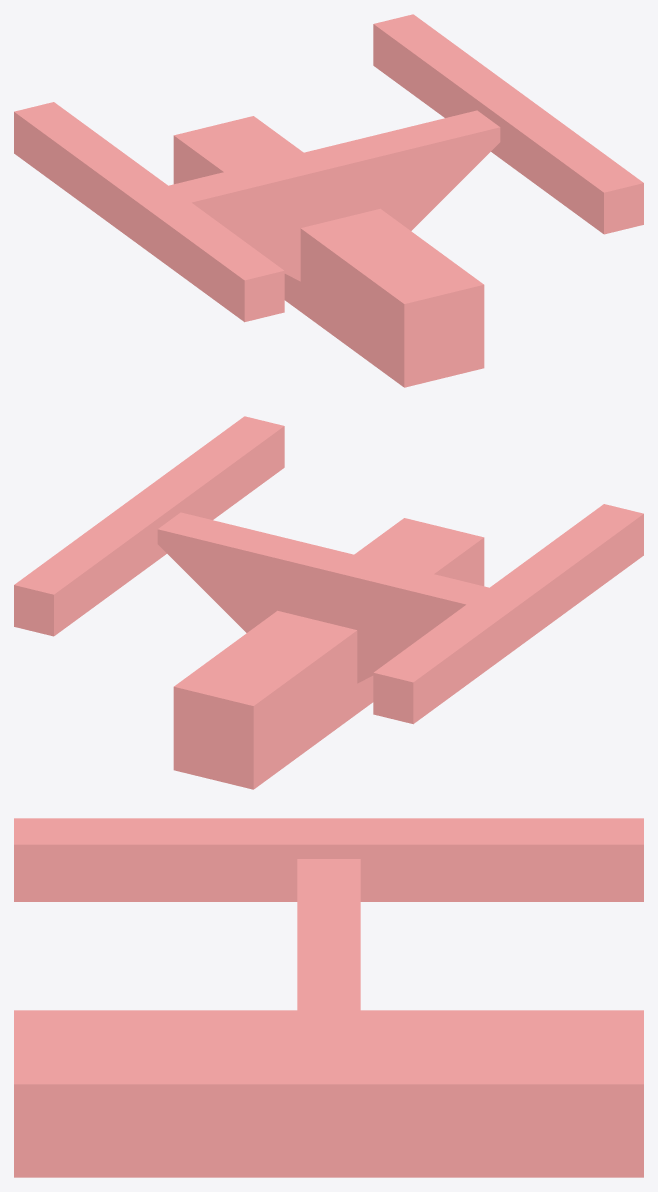
Rendered from ps2_save-icons_rollercoasterworld.glb.
3 renders of one model, top to bottom at view 1: azimuth 30°, elevation 25°; view 2: azimuth 150°, elevation 25°; view 3: azimuth 270°, elevation 25°, orthographic. The views are drawn at different scales.
Visible parts, largest first — view 1: BOX.ICO; view 2: BOX.ICO; view 3: BOX.ICO.
Boxes of the visible parts, box(x1,y1,x2,y2) form: BOX.ICO: box(14, 14, 643, 387); BOX.ICO: box(14, 416, 643, 789); BOX.ICO: box(14, 818, 643, 1177).
Size of the model in its own units: 5 by 1.75 by 5.
Materials: 1 (1 with a texture image).
